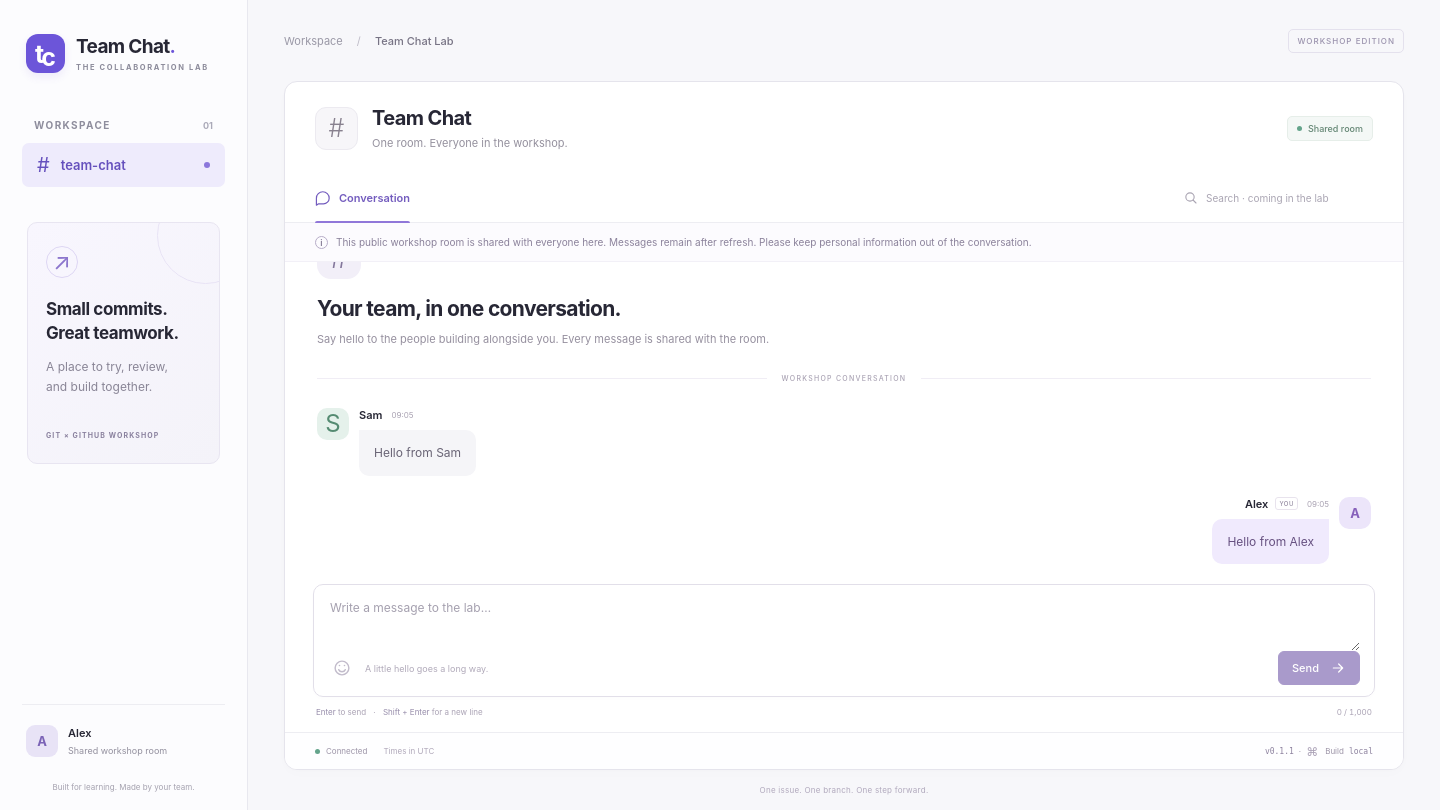
it: shared workshop chat › keeps a failed draft and reuses its message ID on network retry
The width and height of the screenshot is (1440, 810).
(page scrolled)
Type "Keep my draft" into the text box named "Your message".
click(844, 624); type("Keep my draft")  # box [328,598,1360,651]
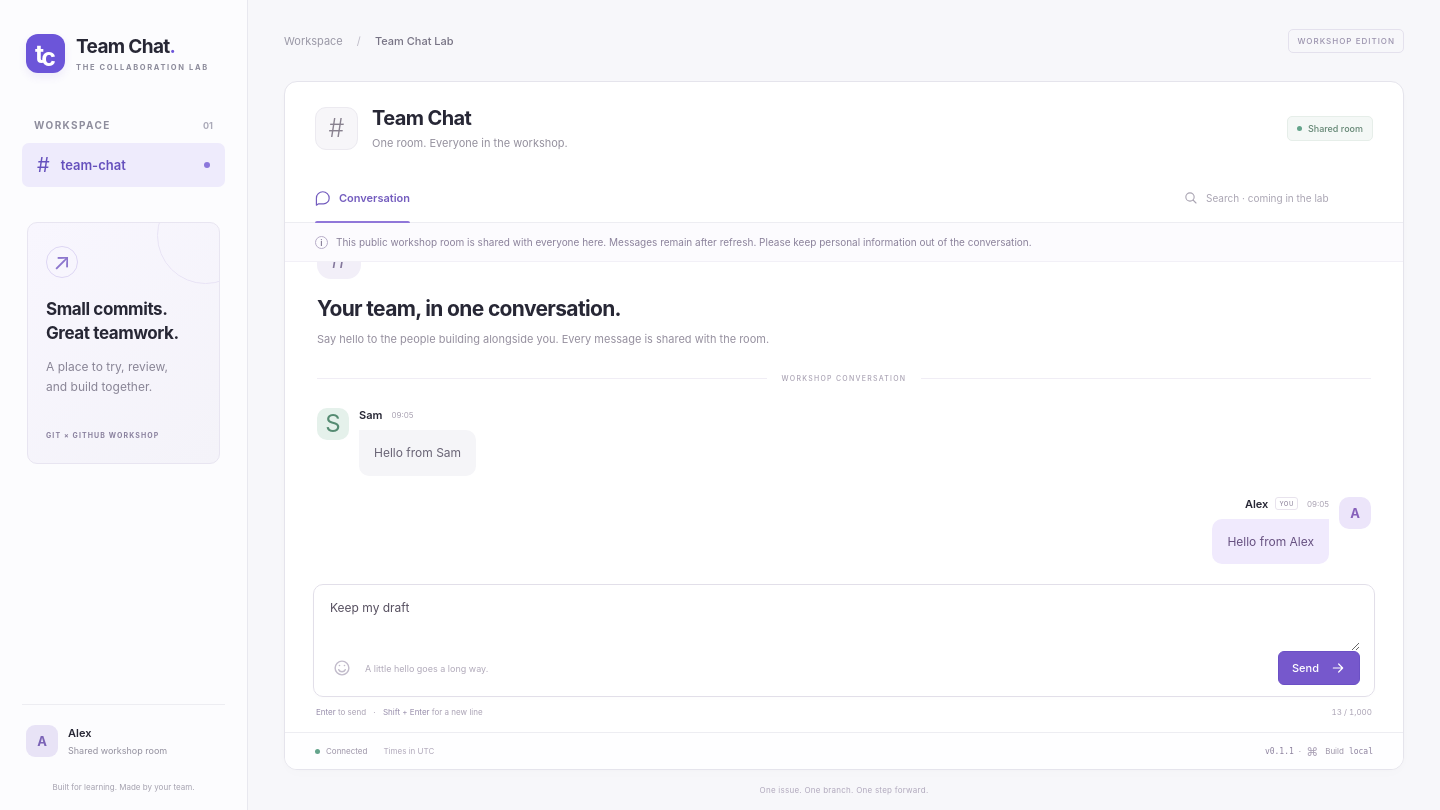
Click the button with aria-label "Send message".
click(1319, 668)  # box [1278,651,1360,685]
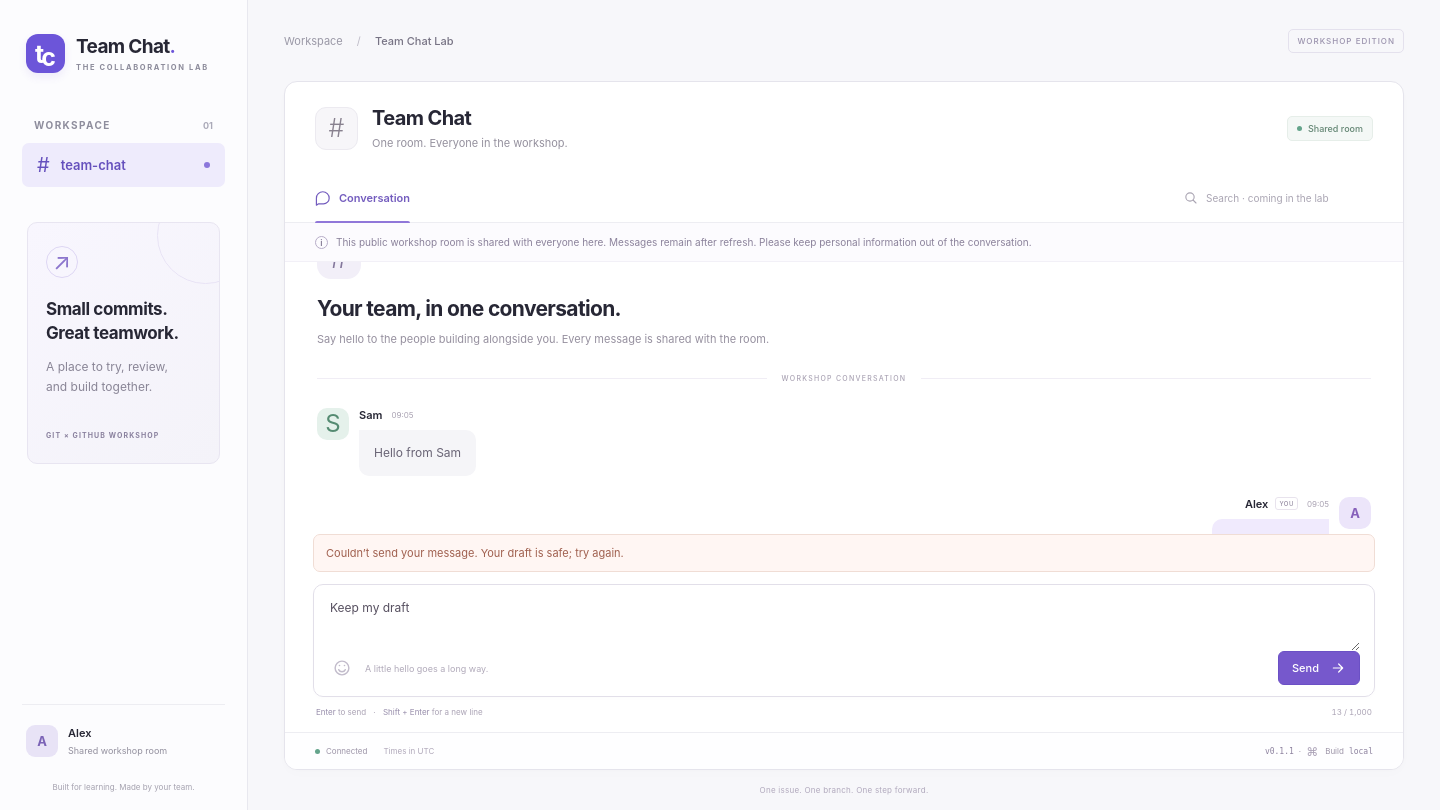
Now the message "Couldn’t send your message. Your draft is safe; try again." is shown, box [313,534,1375,572]
Click the button with aria-label "Send message".
click(1319, 668)  # box [1278,651,1360,685]
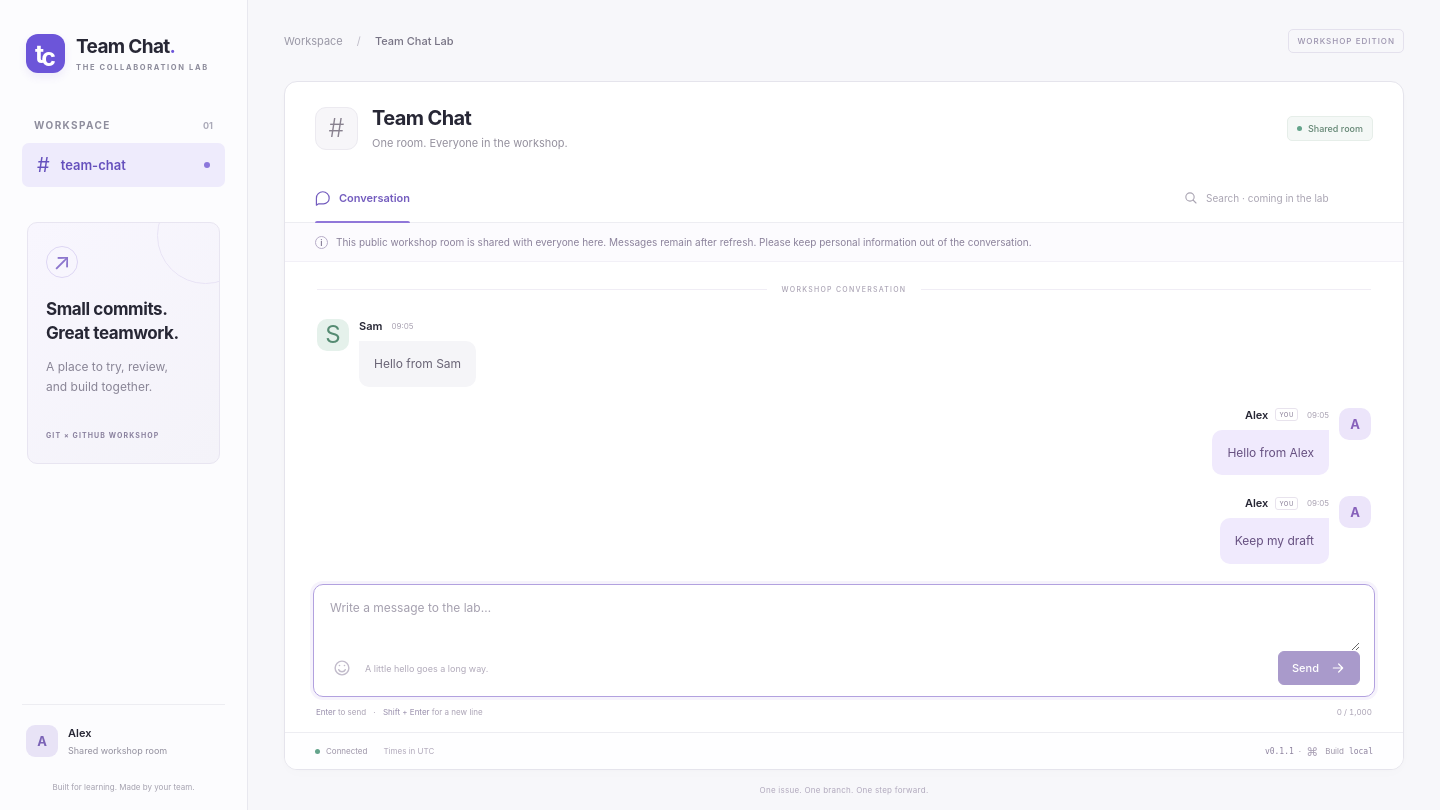
Now the text box named "Your message" is empty, box [328,598,1360,651]
Now the text "Keep my draft" is shown once, box [1220,518,1329,564]
